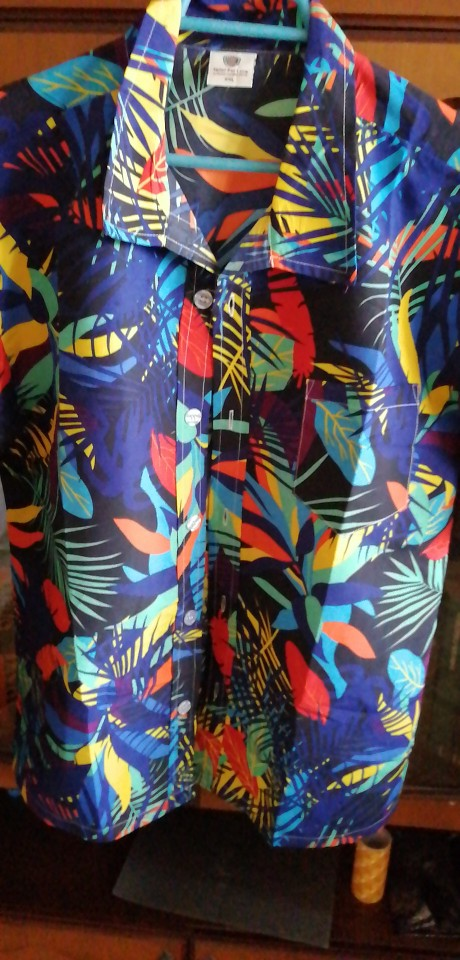shirts: (1, 1, 456, 862)
